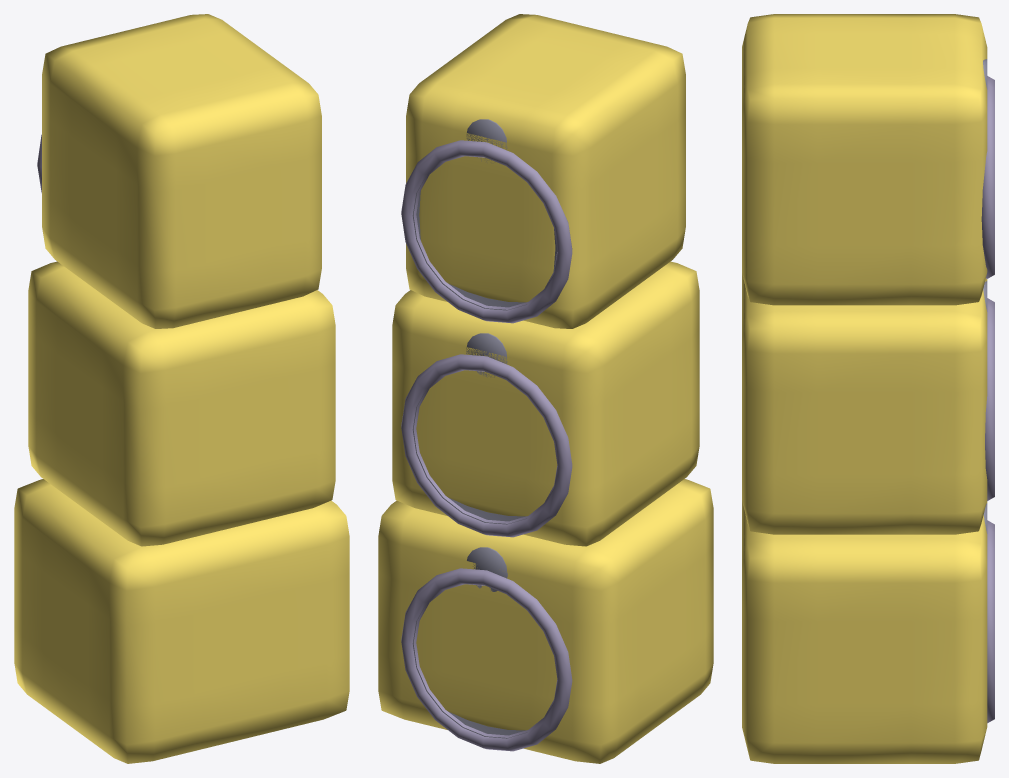
The model's file is LastDancerSpeaker.glb.
3 views of the same model, side by side, from view 1: azimuth 30°, elevation 25°; view 2: azimuth 150°, elevation 25°; view 3: azimuth 270°, elevation 25° (orthographic). The views are drawn at different scales.
Parts seen in each view (by area): view 1: Body; view 2: Body, Rim, Cone; view 3: Body, Rim.
Boxes of the visible parts, x1=… form: Body: x1=14, y1=14, x2=349, y2=763; Body: x1=378, y1=14, x2=713, y2=763; Rim: x1=401, y1=140, x2=572, y2=751; Cone: x1=412, y1=119, x2=557, y2=738; Body: x1=742, y1=14, x2=987, y2=763; Rim: x1=981, y1=76, x2=994, y2=723.
Size of the model in its own units: 5 by 13.14 by 4.54.
